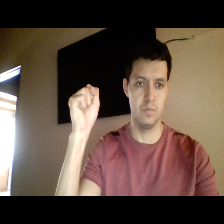9D: (63, 80, 107, 134)
